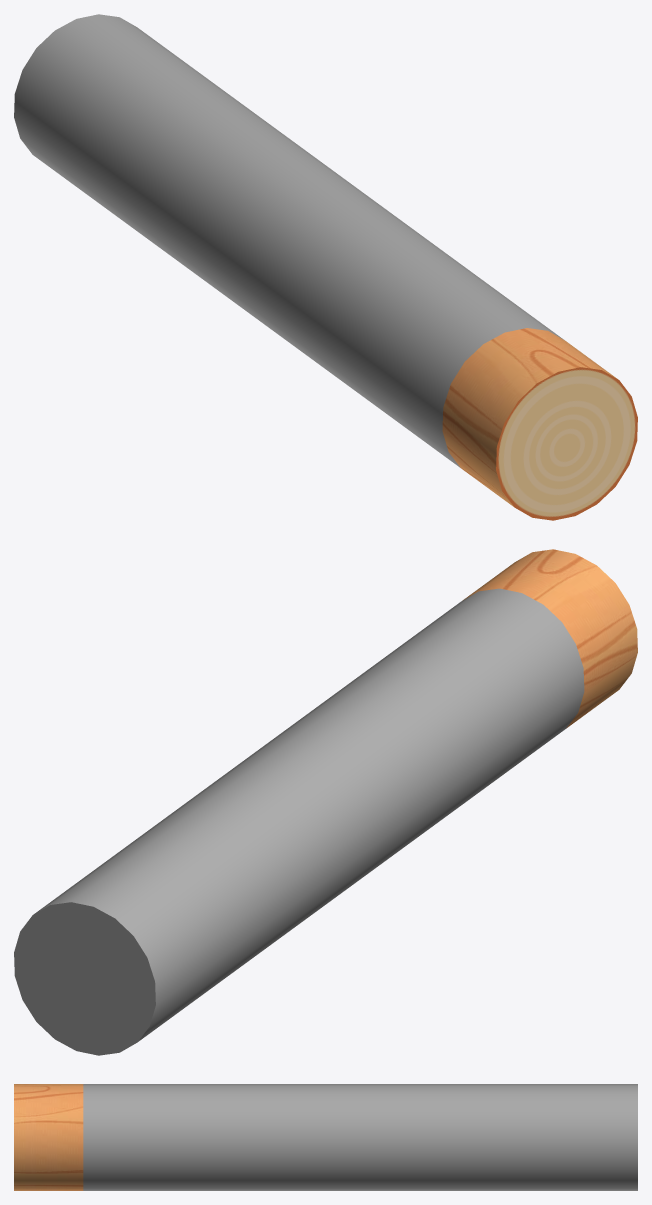
Rendered from Log.fbx.
3 views of the same model, one above another, from view 1: azimuth 30°, elevation 25°; view 2: azimuth 150°, elevation 25°; view 3: azimuth 270°, elevation 25° (orthographic). The views are drawn at different scales.
Visible parts, largest first — view 1: Wood; view 2: Wood; view 3: Wood.
Part boxes in pixels (x1,y1,x2,y2): Wood: [14, 14, 637, 520]; Wood: [14, 549, 637, 1055]; Wood: [14, 1084, 637, 1190].
Bounding box in the file's own units: 59.56 × 59.56 × 350.
